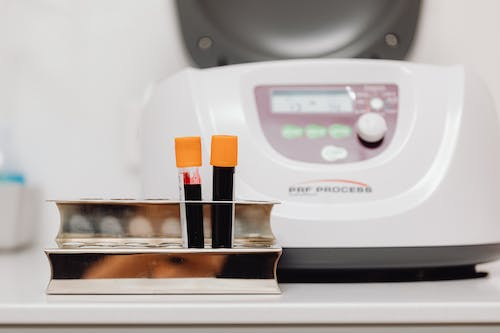blood: (177, 166, 205, 249), (210, 165, 236, 249)
